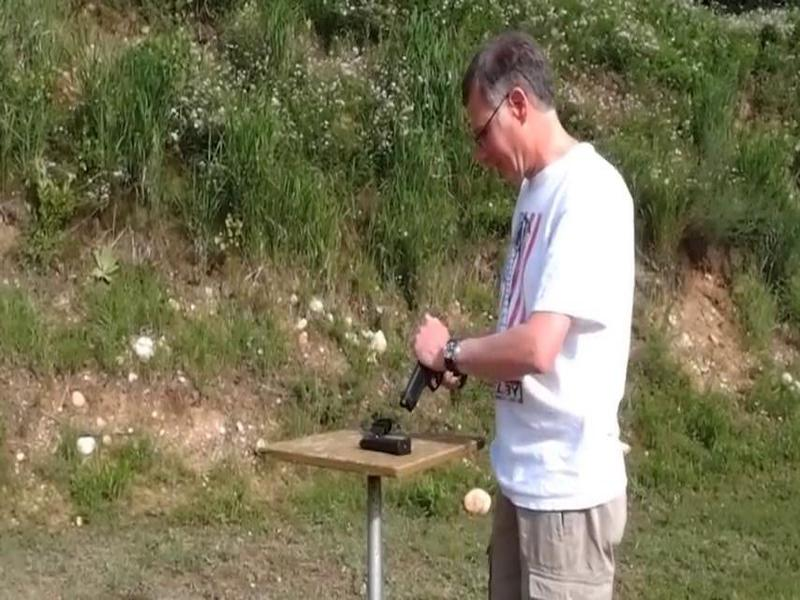Pistola: (392, 329, 471, 419)
